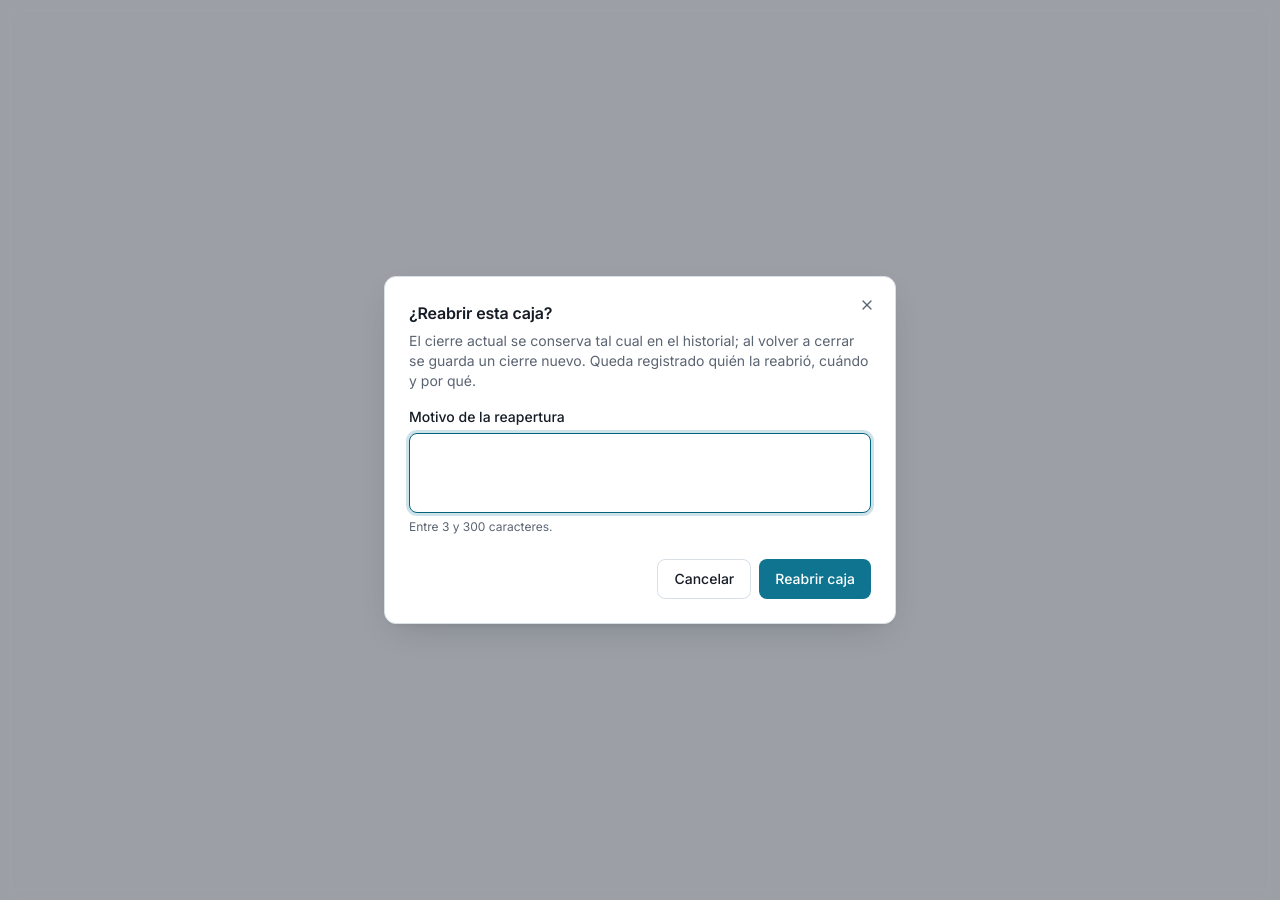
Test: ReopenCashSessionModal (DX-027, DX-252) › mientras envía, el botón y el campo quedan deshabilitados (sin doble envío)
The image size is (1280, 900).
Type "Cobro sin registrar" into the text box labelled "Motivo de la reapertura" at (640, 473), box [409,433,871,513]
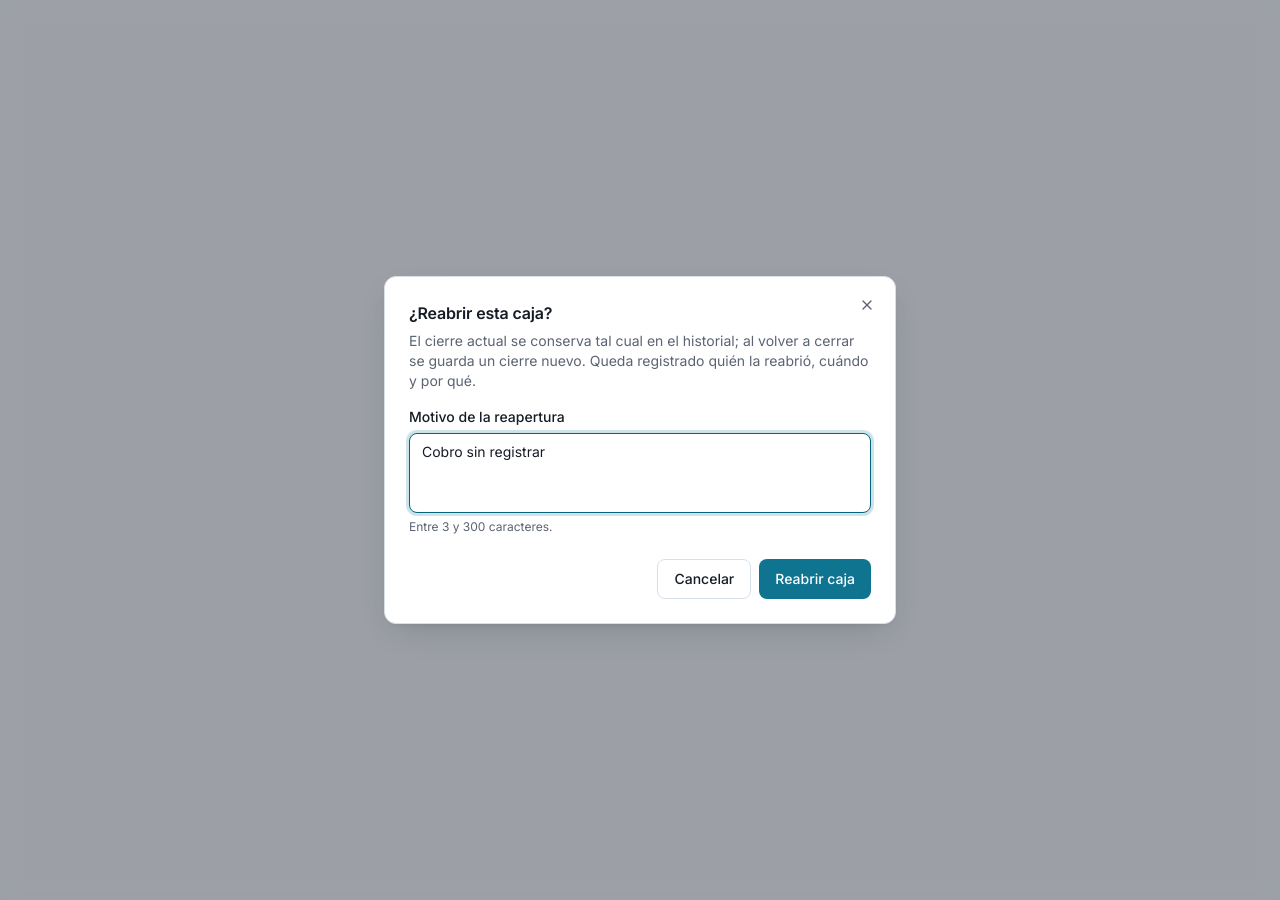
Click the button "Reabrir caja" at (815, 579), box [759,559,871,599]
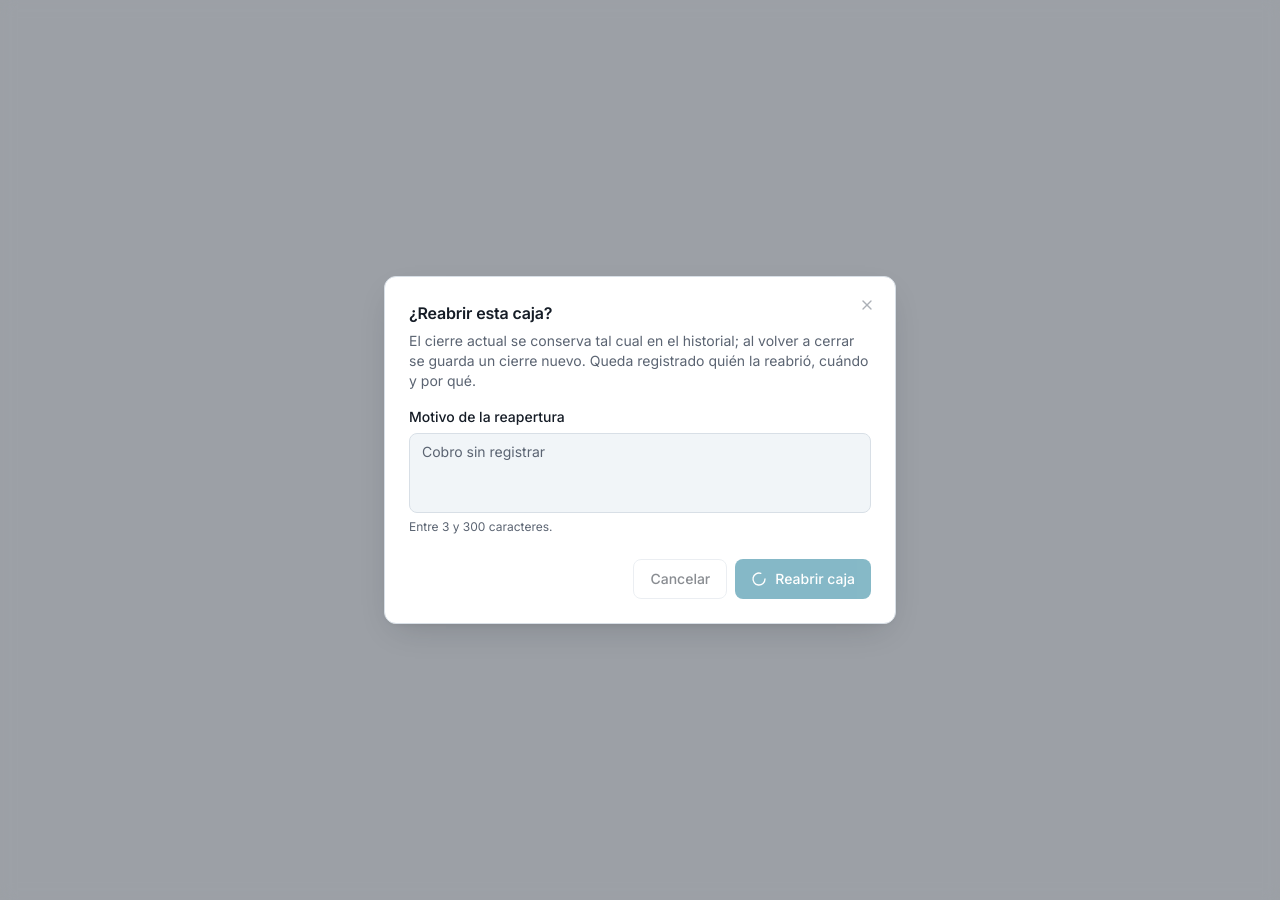
Now the button "Reabrir caja" is disabled
Now the text box labelled "Motivo de la reapertura" is disabled, box [409,433,871,513]
Now the button "Cancelar" is disabled, box [634,559,727,599]
Click the button "Reabrir caja" at (803, 579), box [735,559,871,599]
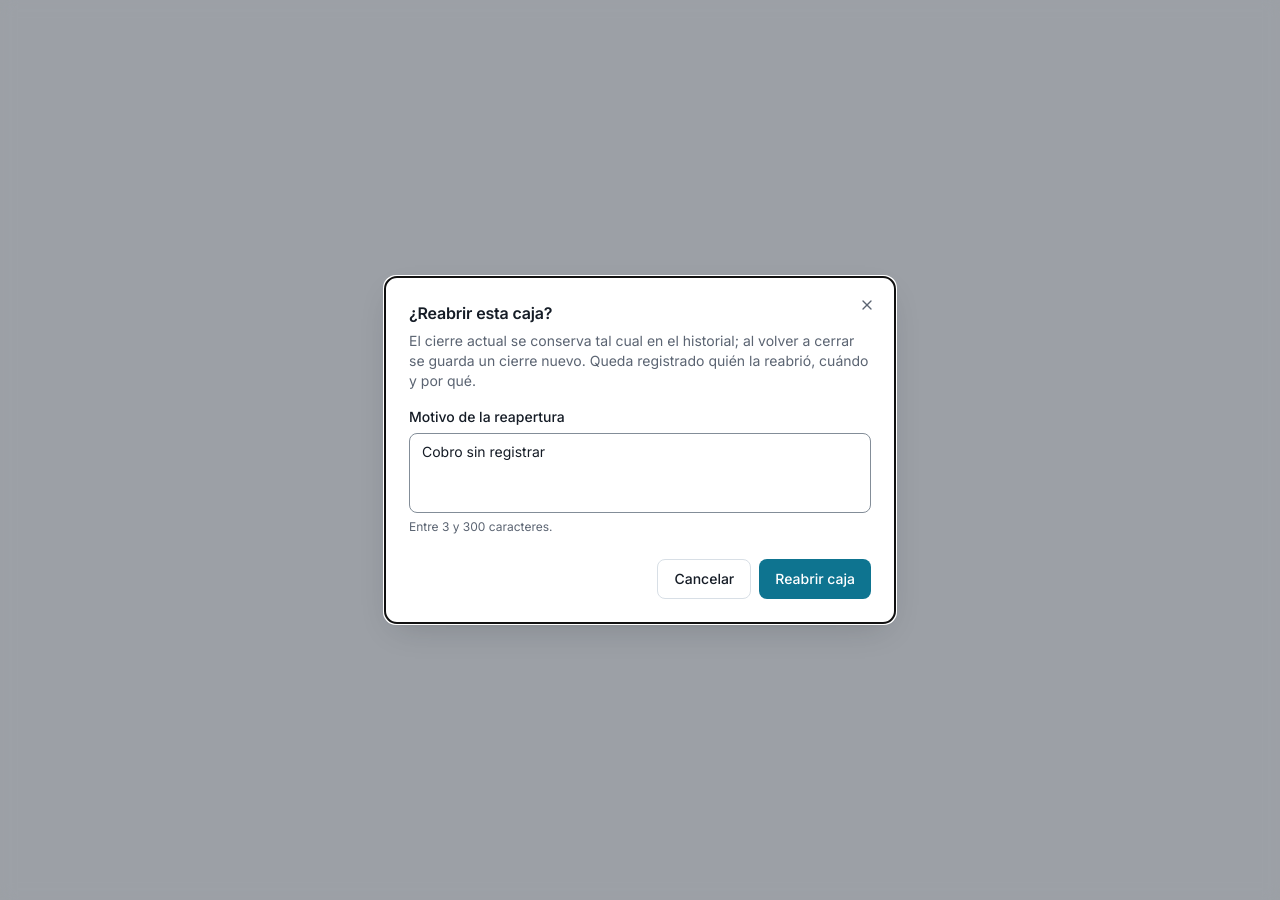
Now the button "Reabrir caja" is enabled, box [759,559,871,599]
